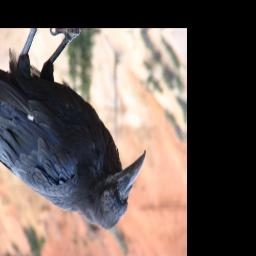Crow: (0, 29, 148, 236)
